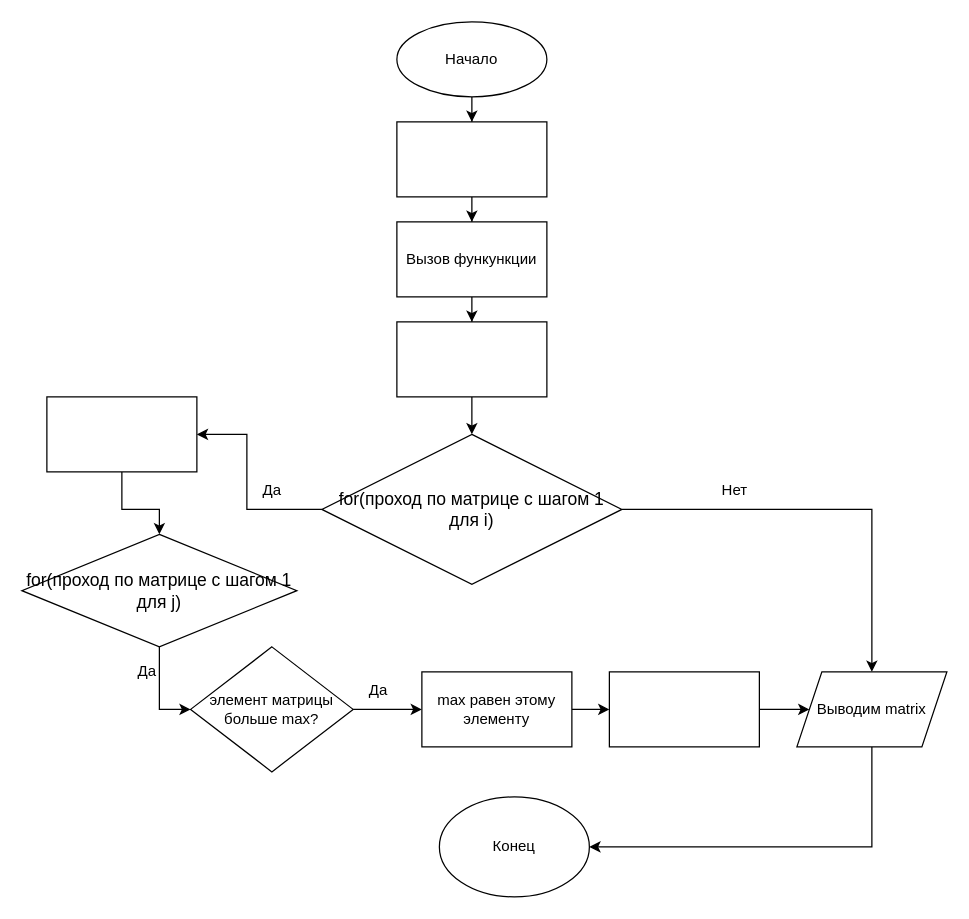
The diagram is 969 pixels wide and 919 high, and some of its shapes have lost their labels. Here are the shapes that lost their labels. From the top down, the centre of each, then its label:
At point 471,159: "Объявление массива matrix".
At point 471,359: "Объявление массива maxEl".
At point 121,434: "Объявление переменной max".
At point 683,709: "Добавляем в matrix max".
